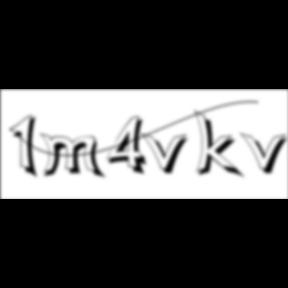1: (10, 114, 44, 182)
4: (106, 115, 154, 179)
k: (194, 108, 246, 181)
m: (40, 132, 108, 181)
v: (141, 131, 195, 177)
